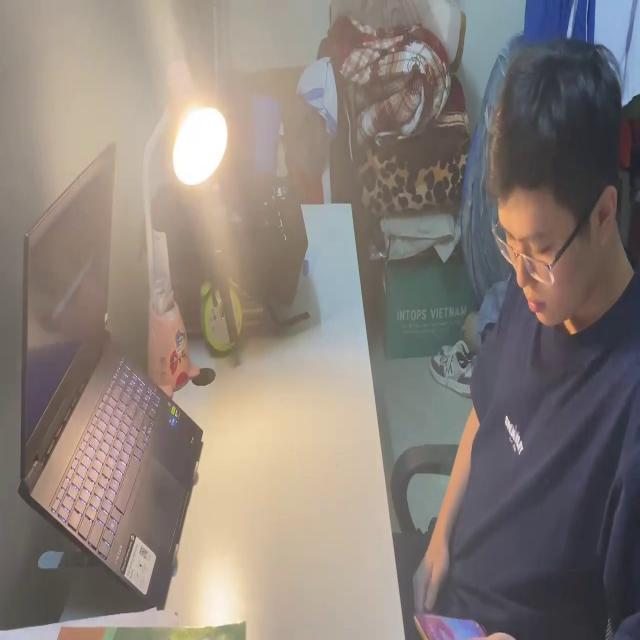book: (0, 610, 246, 640)
laptop: (14, 134, 202, 612)
phone: (409, 609, 489, 640)
student: (405, 33, 640, 640)
